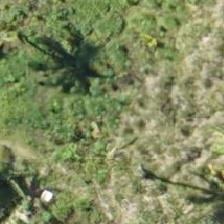coconut_tree: (0, 0, 60, 71)
